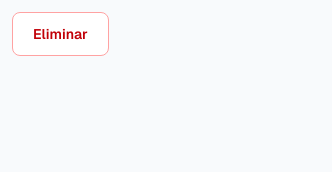
ConfirmButton › pide confirmación, mueve el foco y ejecuta una sola vez
Click the button "Eliminar" at (60, 34), box top-left (12, 12), bottom-right (109, 56)
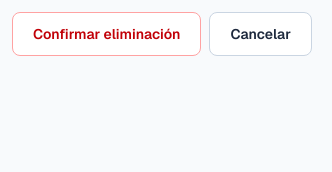
Click the button "Confirmar eliminación" at (107, 34), box top-left (12, 12), bottom-right (201, 56)
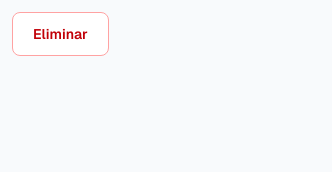
Expected: the button "Eliminar" is shown, top-left (12, 12), bottom-right (109, 56)
